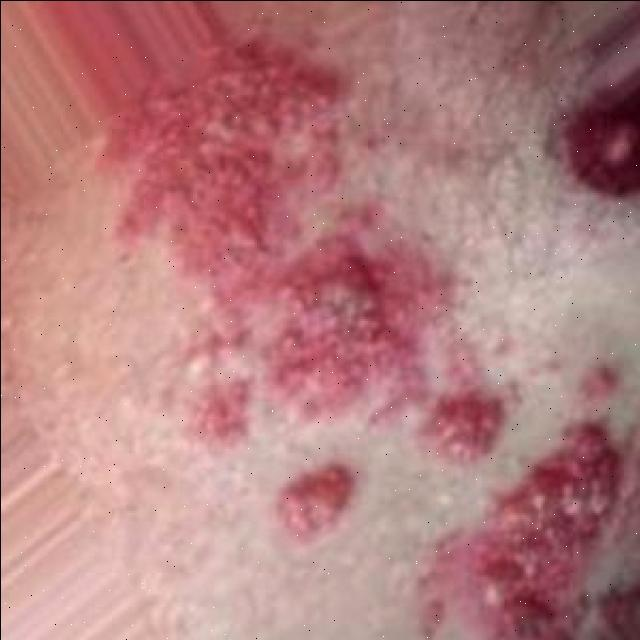Shingles: (83, 29, 507, 529), (406, 421, 640, 639)
